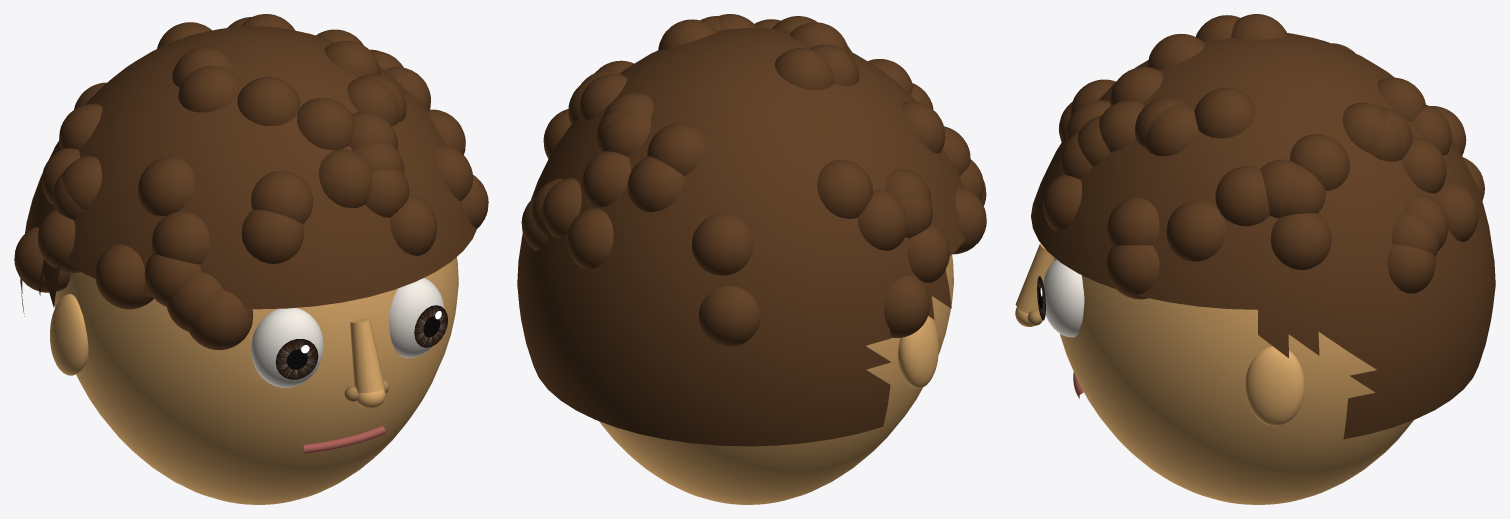
File: homme-13-boucles.glb
The picture shows the model from 3 angles, left to right: view 1: azimuth 30°, elevation 25°; view 2: azimuth 150°, elevation 25°; view 3: azimuth 270°, elevation 25°; orthographic projection.
Size of the model in its own units: 0.3281 by 0.35 by 0.3387.
10 materials, 1 textured.
